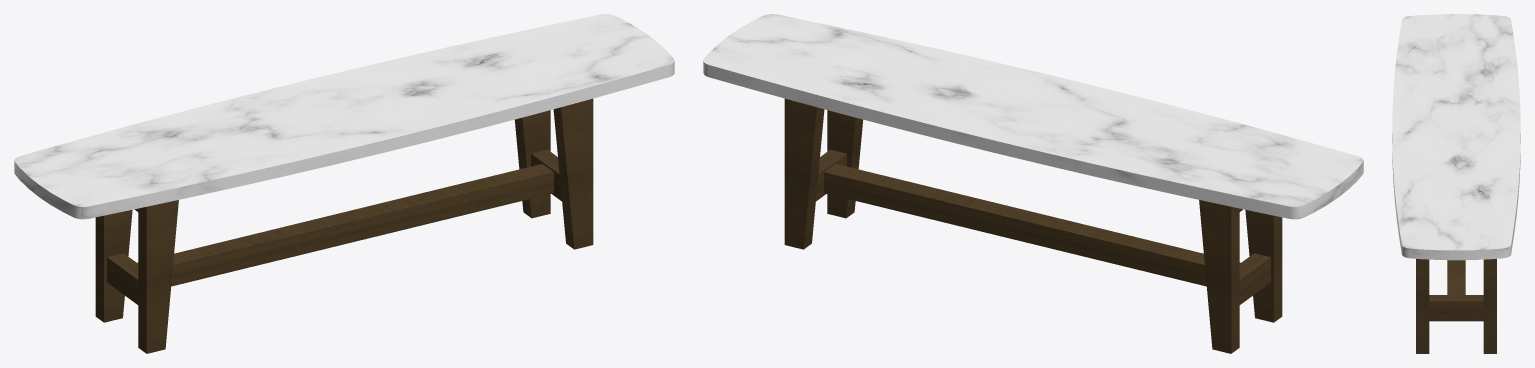
The model's file is coffee_table.obj.
3 renders of one model, left to right at view 1: azimuth 30°, elevation 25°; view 2: azimuth 150°, elevation 25°; view 3: azimuth 270°, elevation 25°, orthographic. The views are drawn at different scales.
Visible parts, largest first — view 1: top_Cube, legs_Cube.001; view 2: top_Cube, legs_Cube.001; view 3: top_Cube, legs_Cube.001.
Boxes of the visible parts, x1,y1,x2,y2 form: top_Cube: (14, 14, 674, 219); legs_Cube.001: (95, 98, 593, 353); top_Cube: (703, 14, 1363, 219); legs_Cube.001: (784, 98, 1282, 353); top_Cube: (1392, 14, 1520, 260); legs_Cube.001: (1416, 259, 1496, 353).
Bounding box in the file's own units: 1.55 × 0.4132 × 0.3564.
Materials: 2 (2 with a texture image).
